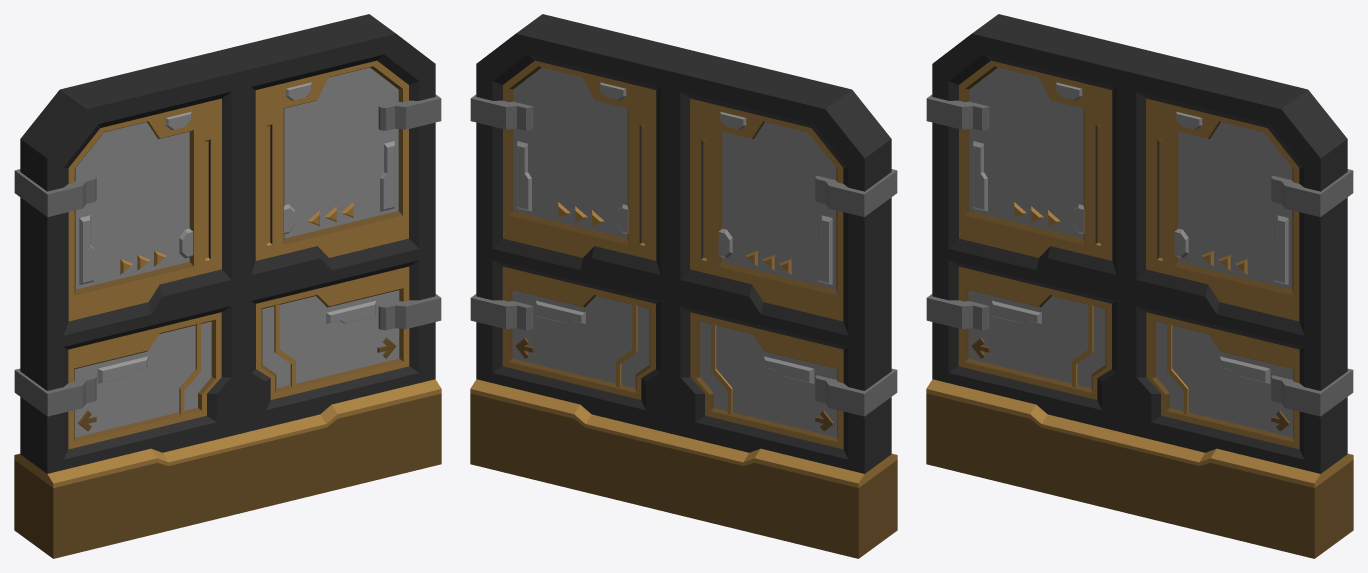
The model's file is door-double.glb.
The picture shows the model from 3 angles, left to right: view 1: azimuth 30°, elevation 25°; view 2: azimuth 150°, elevation 25°; view 3: azimuth 330°, elevation 25°; orthographic projection.
Parts seen in each view (by area): view 1: Door_Double.L, Door_Double.R; view 2: Door_Double.L, Door_Double.R; view 3: Door_Double.R, Door_Double.L.
Part boxes in pixels (<box>): Door_Double.L: <box>14,52,247,558</box>; Door_Double.R: <box>215,14,441,511</box>; Door_Double.L: <box>664,52,897,558</box>; Door_Double.R: <box>470,14,696,511</box>; Door_Double.R: <box>1120,52,1353,558</box>; Door_Double.L: <box>926,14,1152,511</box>.
Size of the model in its own units: 2.64 by 2.79 by 0.4542.
